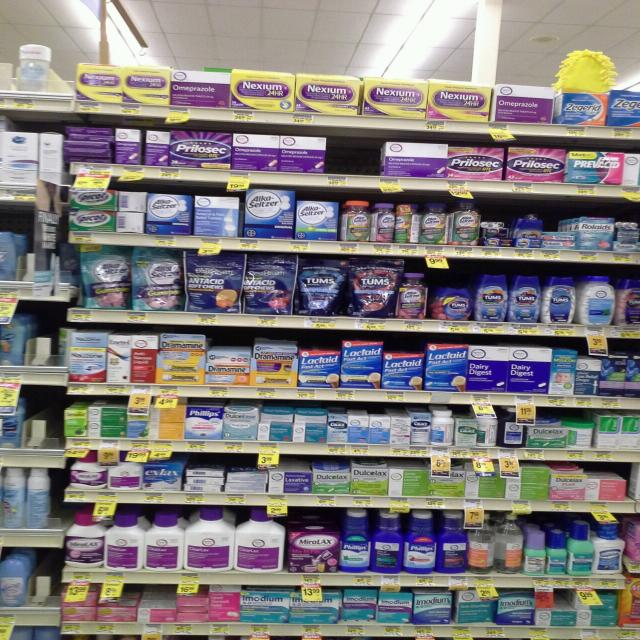void: (333, 134, 381, 188), (50, 39, 76, 109), (33, 318, 60, 371), (29, 392, 53, 444), (0, 30, 13, 114)
